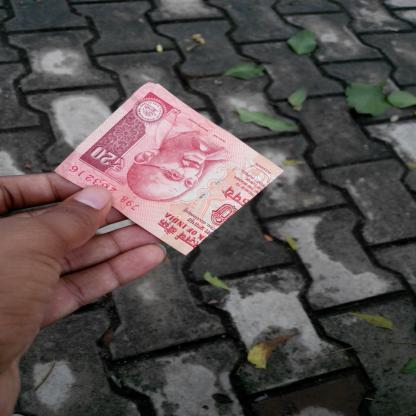Old20Front: (52, 84, 277, 249)
